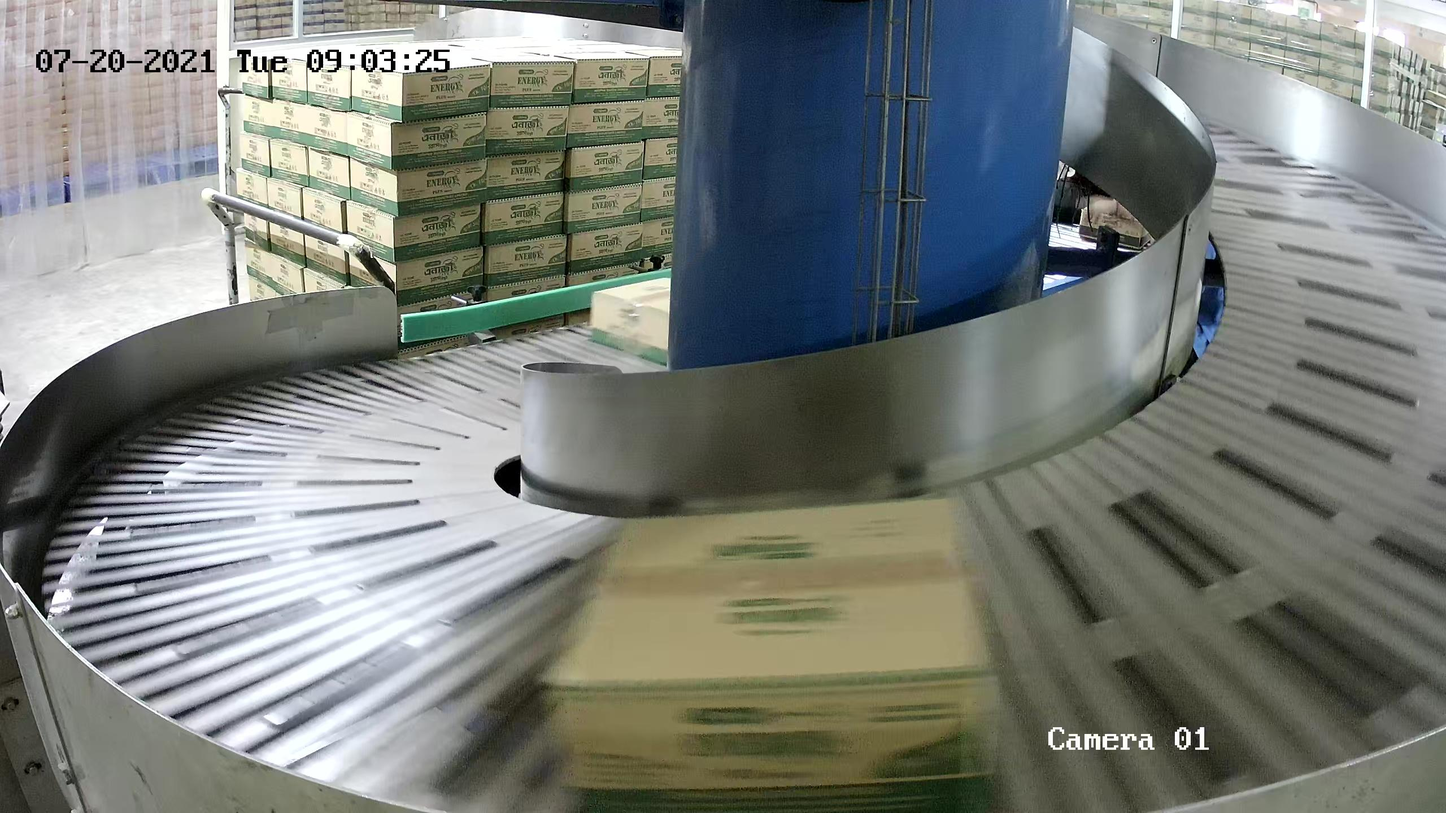Box: (532, 492, 1013, 813), (589, 275, 672, 366)
